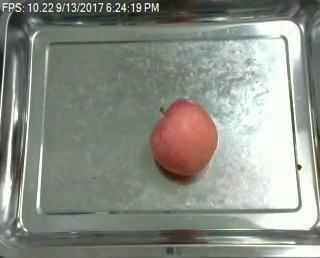apple: (150, 99, 218, 175)
